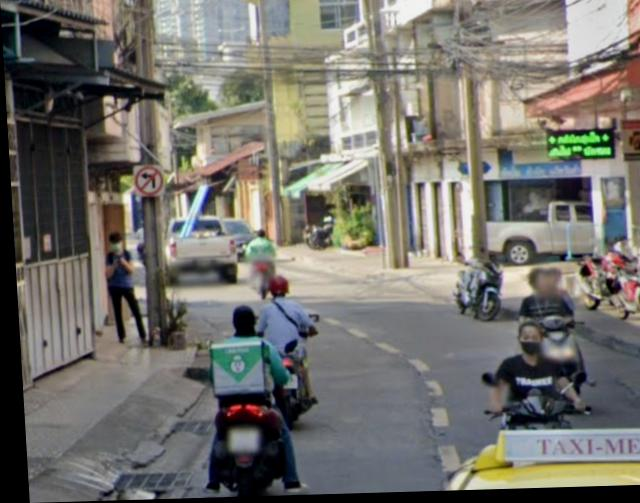not_u_turn_left: (128, 166, 165, 198)
